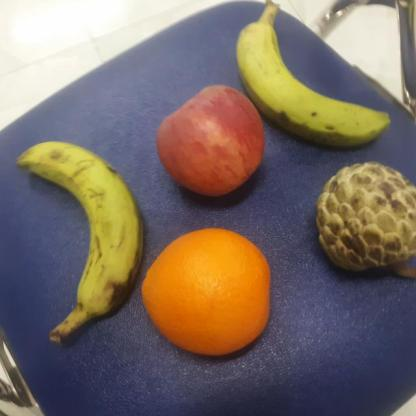annona: (310, 158, 416, 285)
apple: (150, 80, 268, 198)
banana: (10, 136, 148, 319), (235, 18, 394, 150)
orange: (138, 223, 274, 361)
